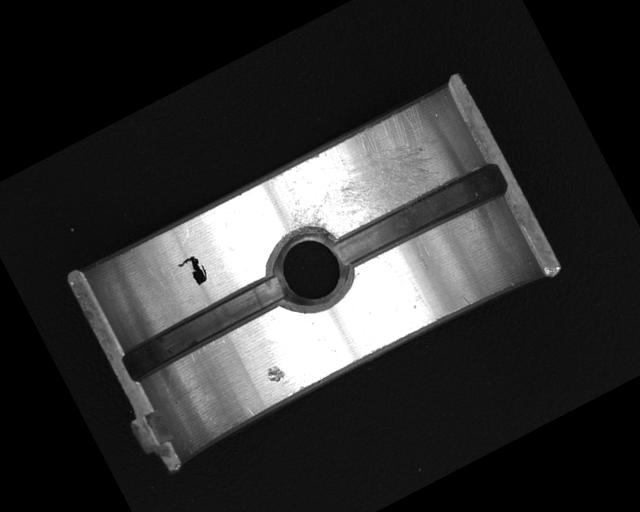blot: (175, 251, 212, 290)
bruise: (264, 361, 288, 385)
gap: (329, 156, 512, 277), (119, 271, 291, 382)
hole: (257, 215, 362, 323)
scratch: (267, 96, 467, 254)
